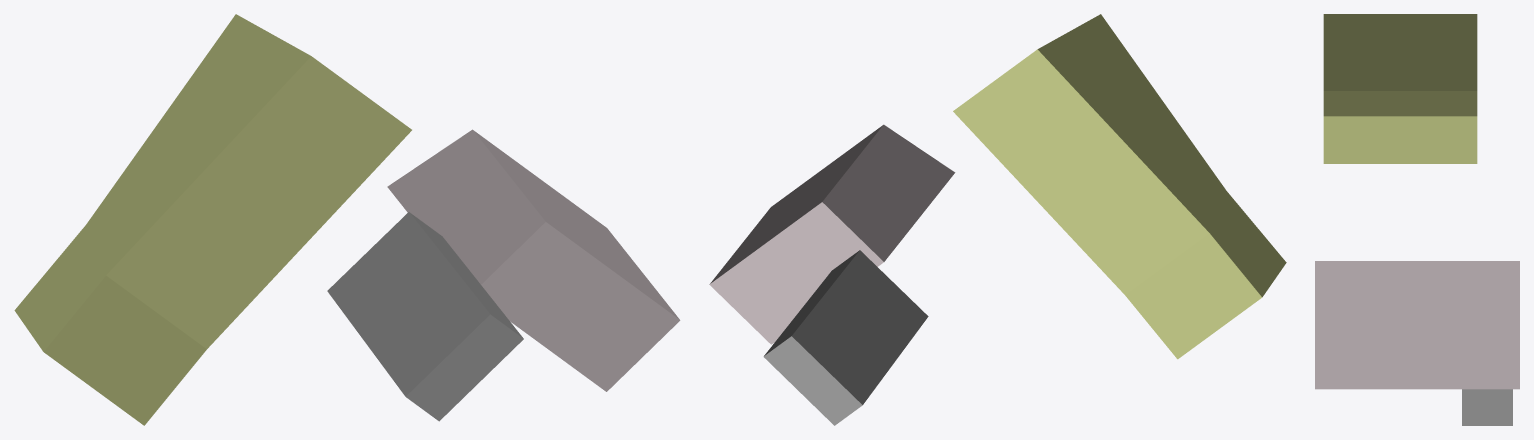
3 renders of one model, left to right at view 1: azimuth 30°, elevation 25°; view 2: azimuth 150°, elevation 25°; view 3: azimuth 270°, elevation 25°, orthographic. The views are drawn at different scales.
Parts seen in each view (by area): view 1: 0_1_2_0_3_3_2_0_0; view 2: 0_1_2_0_3_3_2_0_0; view 3: 0_1_2_0_3_3_2_0_0.
Part boxes in pixels (left/top/right/bottom): 0_1_2_0_3_3_2_0_0: left=14, top=14, right=680, bottom=425; 0_1_2_0_3_3_2_0_0: left=709, top=14, right=1286, bottom=425; 0_1_2_0_3_3_2_0_0: left=1315, top=14, right=1519, bottom=425.
Size of the model in its own units: 28.79 by 21.99 by 12.
